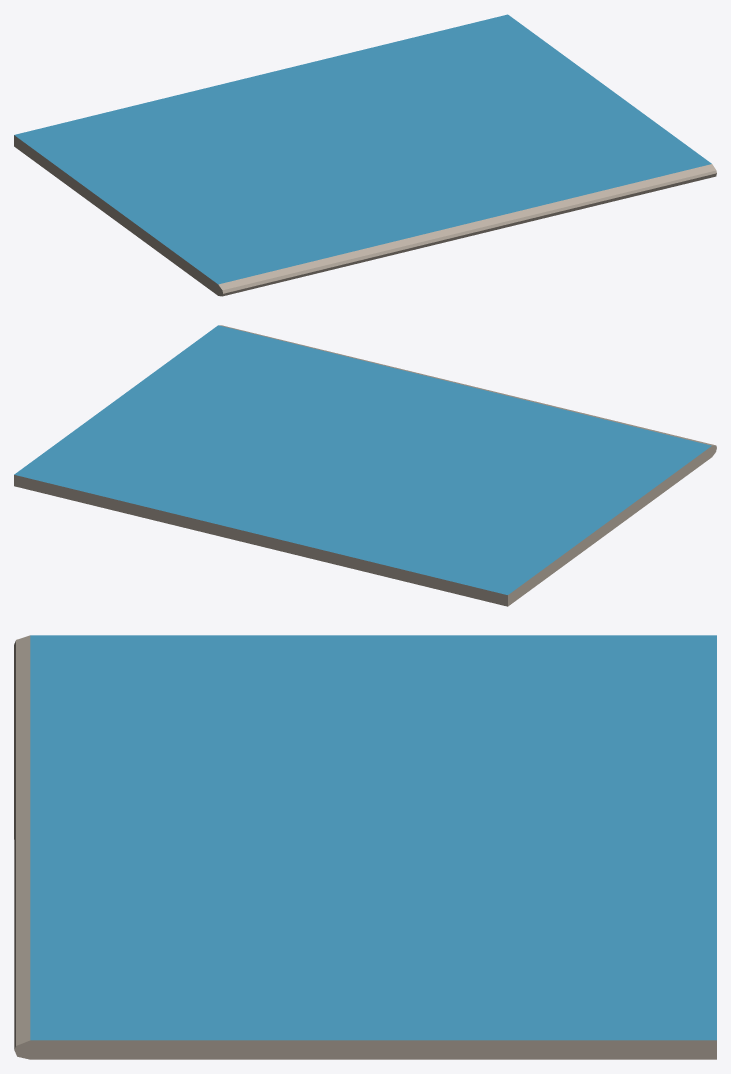
Rendered from SM_Newspaper_001.fbx.
3 views of the same model, one above another, from view 1: azimuth 30°, elevation 25°; view 2: azimuth 150°, elevation 25°; view 3: azimuth 270°, elevation 25° (orthographic). The views are drawn at different scales.
Parts seen in each view (by area): view 1: Newspaper; view 2: Newspaper; view 3: Newspaper.
Boxes of the visible parts, <box> form: Newspaper: <box>14,14,716,296</box>; Newspaper: <box>14,325,716,606</box>; Newspaper: <box>14,635,716,1059</box>.
Size of the model in its own units: 45 by 1 by 33.
